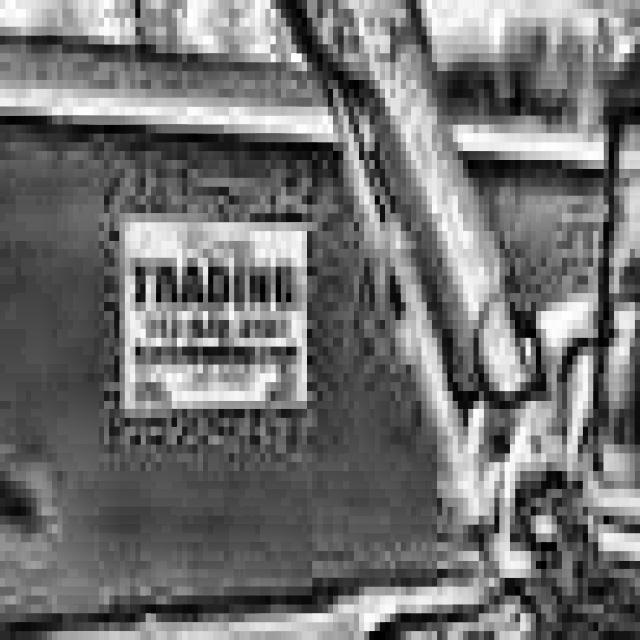excavator: (317, 0, 640, 640)
